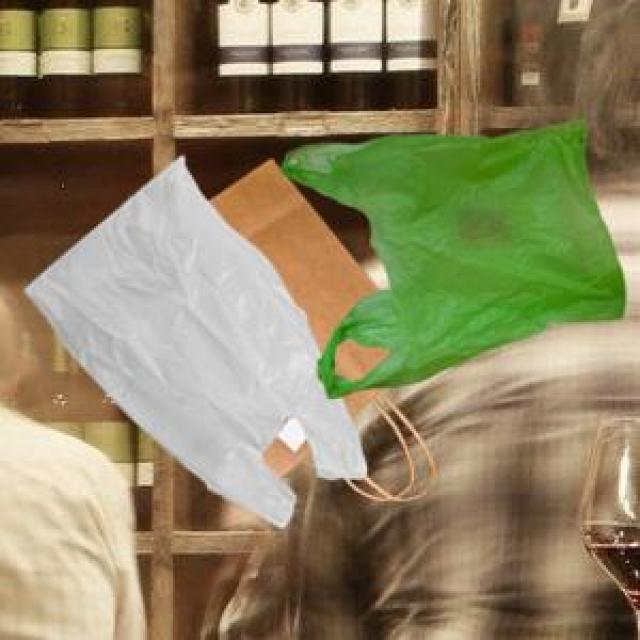paper: (205, 156, 410, 476)
